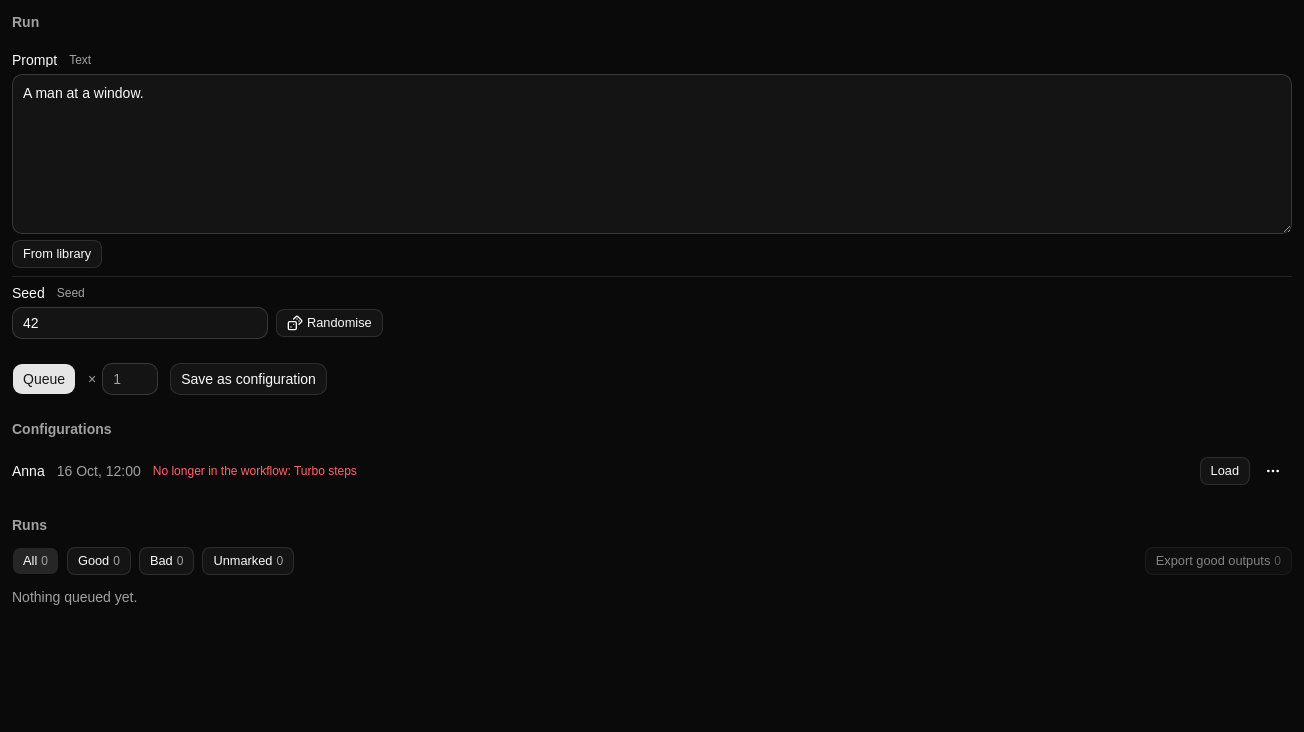
it: WorkflowRunView › starts from the workflow's saved values again after a load, without the note
The image size is (1304, 732).
Click the button "Load".
click(1225, 471)  # box 1200,457 -> 1250,485
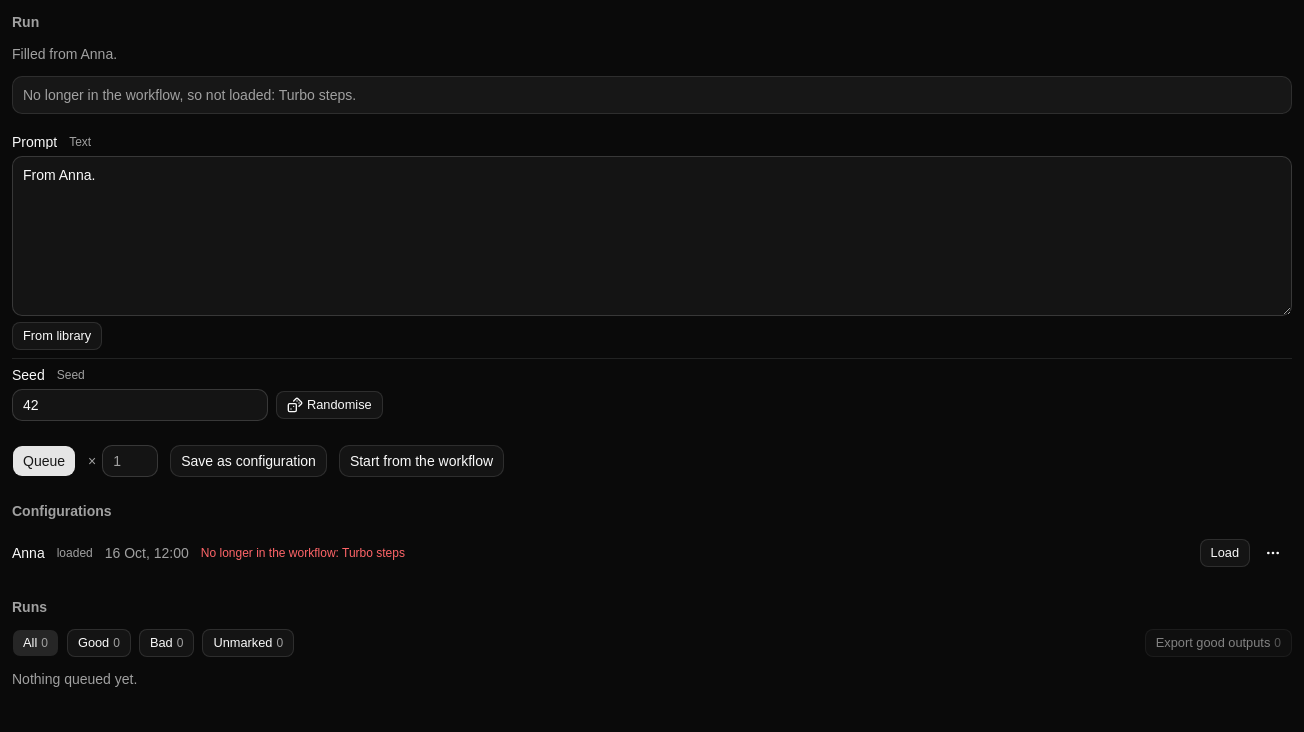
Replace the text in the field labelled "Seed" with "9" at (140, 405), box 12,389 -> 268,421
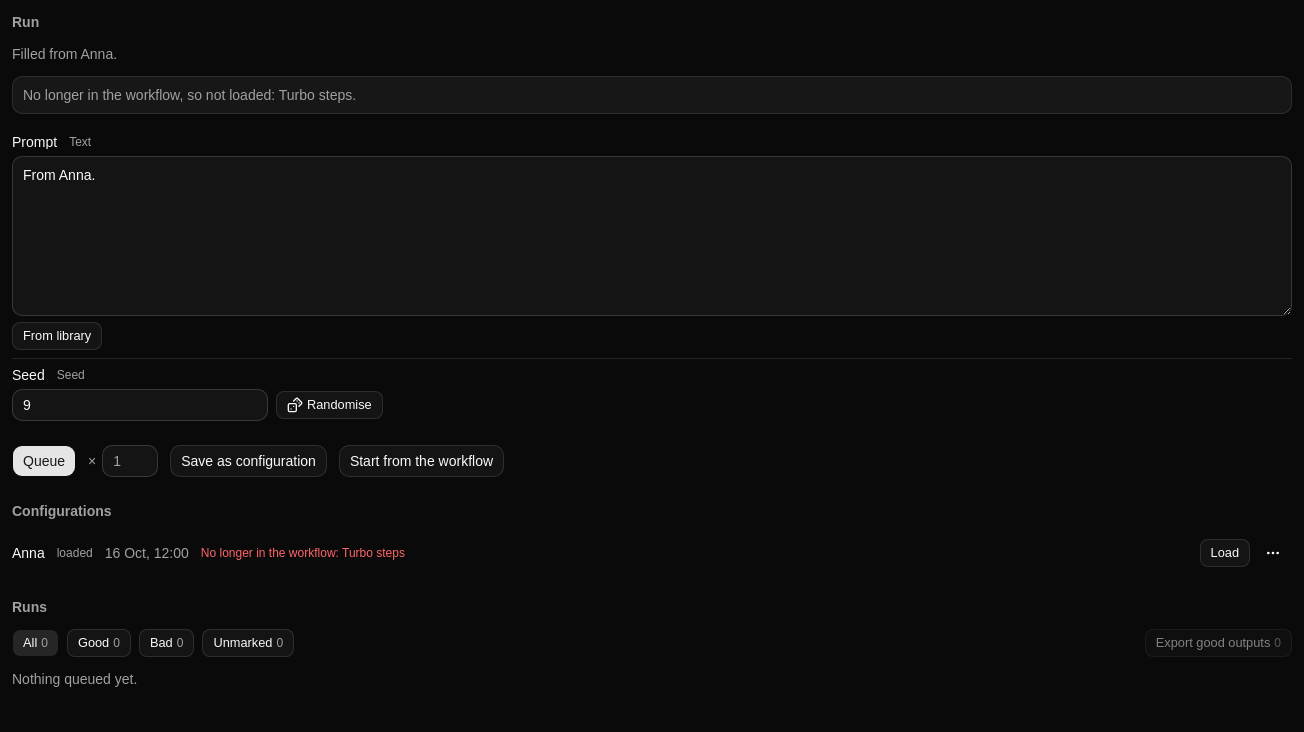
Click the button "Start from the workflow".
click(422, 461)  # box 339,445 -> 504,477
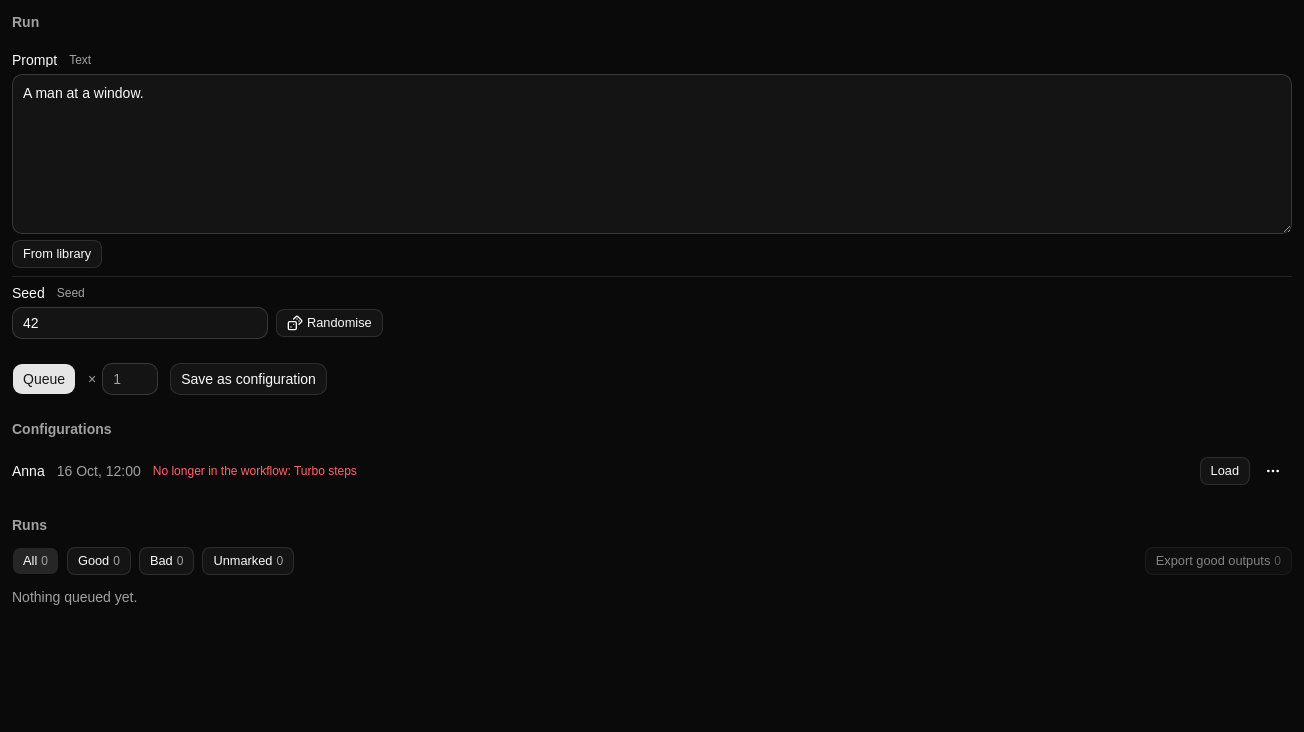
Expected: the text box labelled "Prompt" holds "A man at a window.", 12,74 -> 1292,234
Expected: the field labelled "Seed" holds "42", 12,307 -> 268,339
Expected: the text "Filled from Anna." is gone
